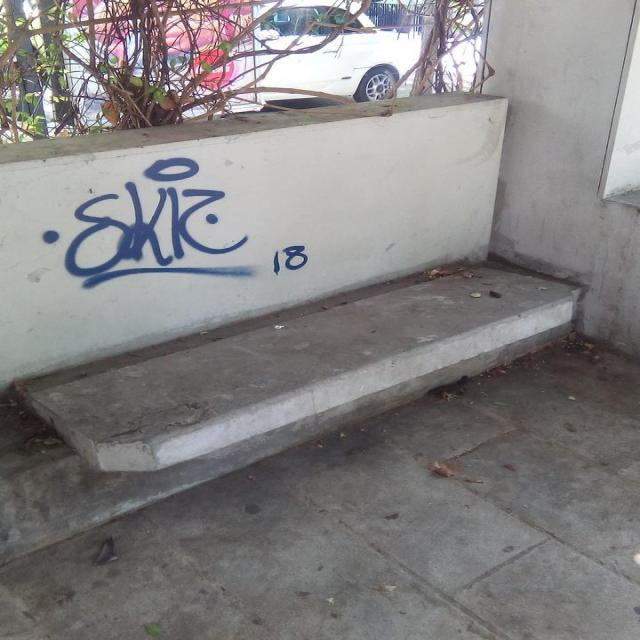nonspitting: (44, 157, 256, 289), (272, 246, 308, 276)
